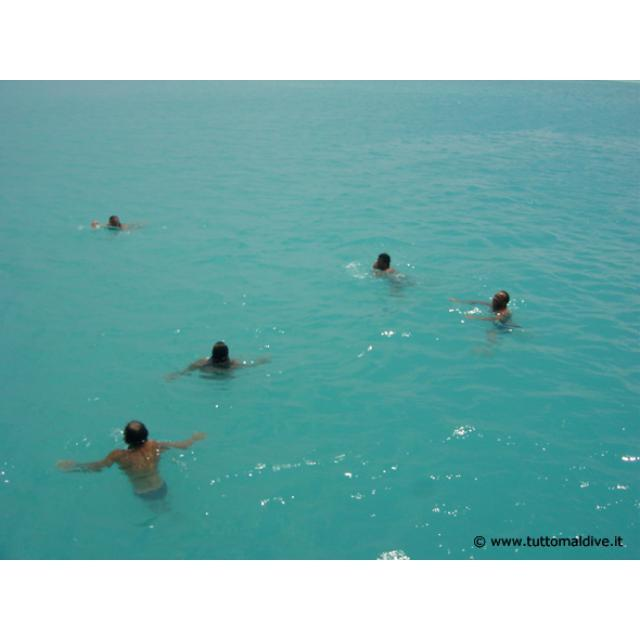human: (59, 410, 206, 506), (165, 342, 269, 389), (451, 288, 516, 332), (373, 246, 397, 283), (96, 209, 127, 232)
